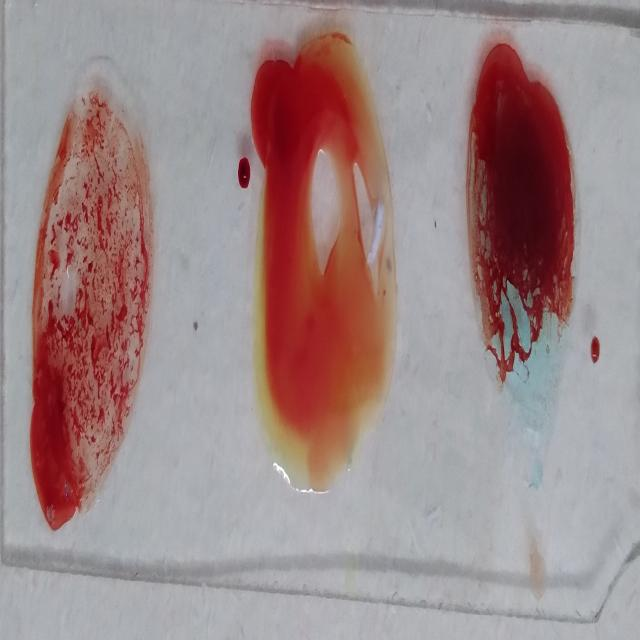A: (459, 39, 584, 472)
D: (35, 95, 150, 522)
